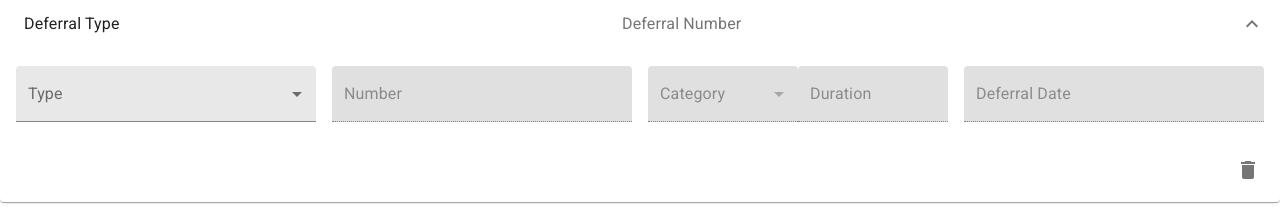
Test: renders input to select deferral type
Click the 1st button named "type": (166, 94) [16, 66, 316, 122]
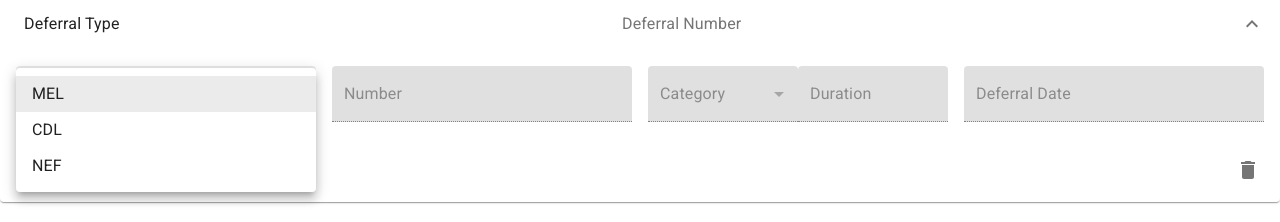
Expected: the list named "type" is shown, [16, 68, 316, 192]
Expected: the options read "MEL", "CDL", "NEF", in this order, [16, 76, 316, 112]; [32, 120, 62, 139]; [32, 156, 62, 175]
